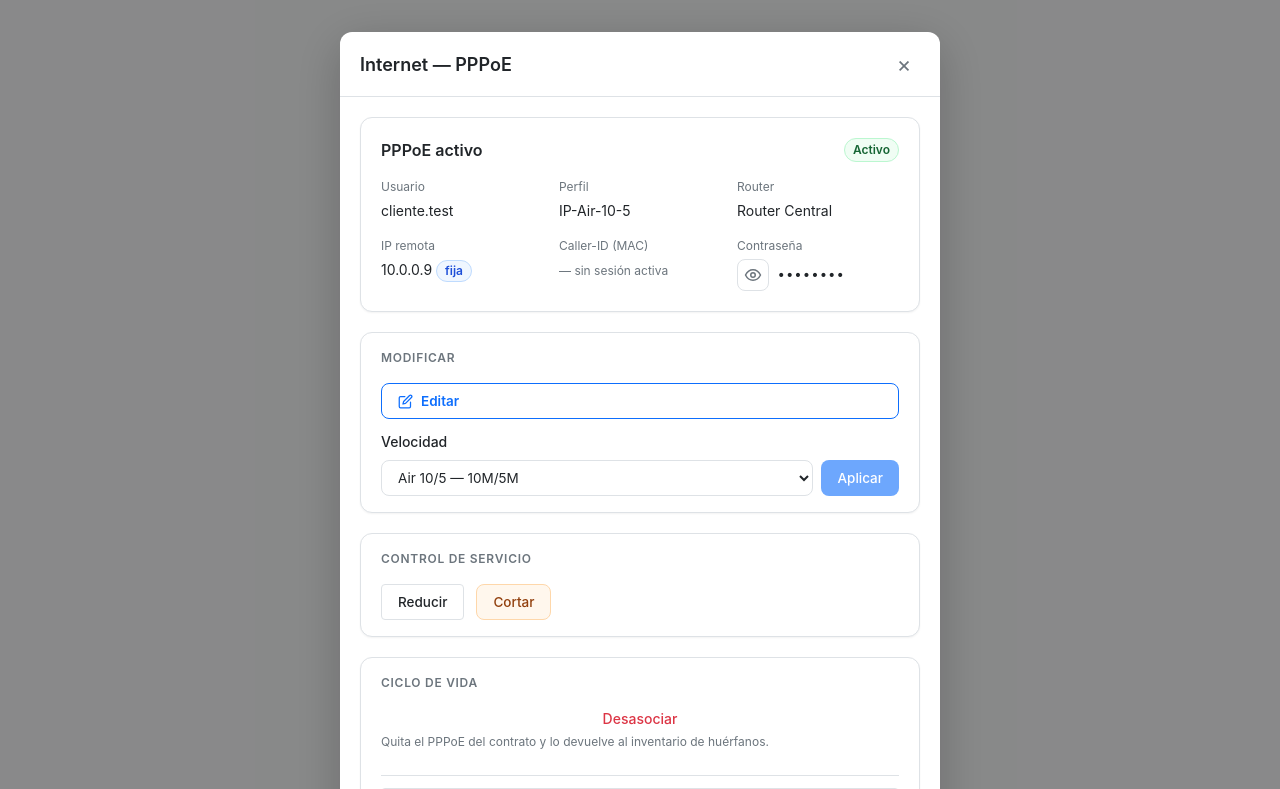
it: EP-7: Cancelar cierra el form de edición › click en Cancelar vuelve a mostrar el botón Editar
The width and height of the screenshot is (1280, 789).
Click the button "Editar" at coordinates (440, 401), box [381,383,899,419]
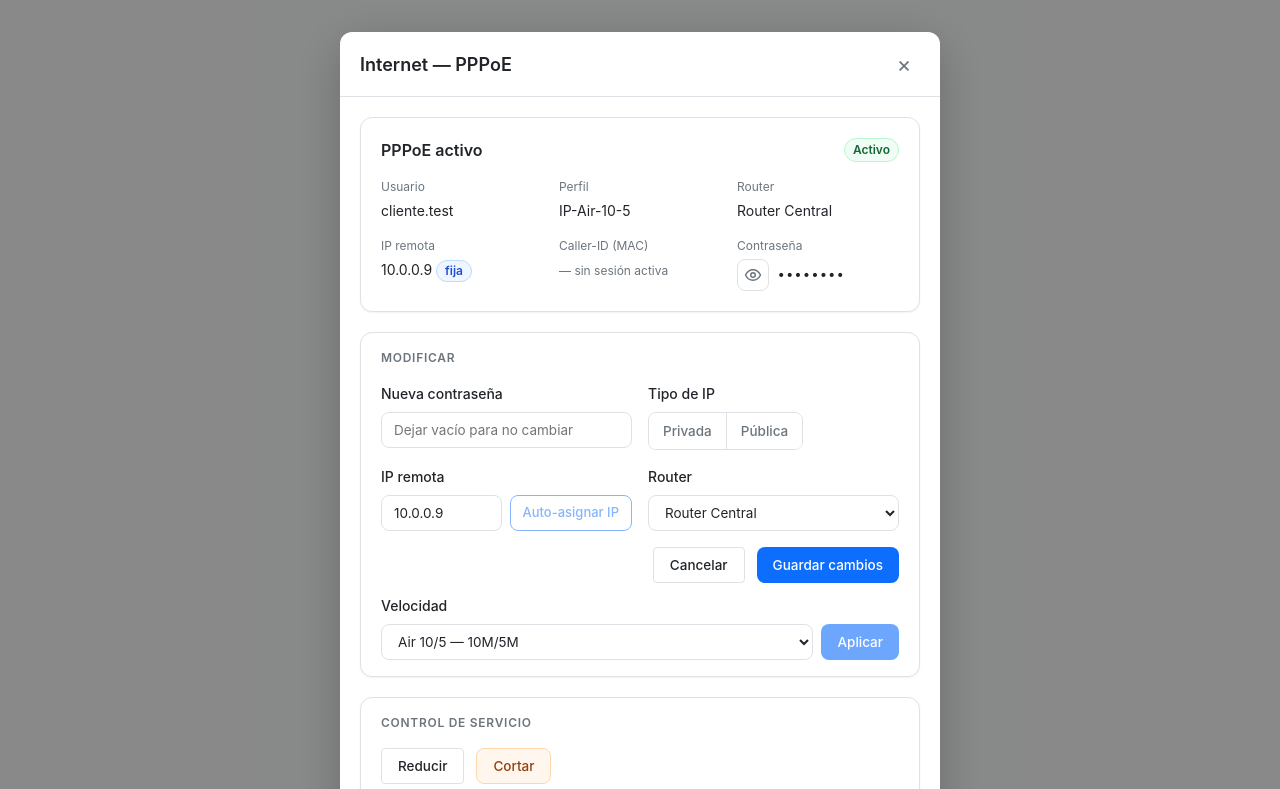
expect the password field labelled "Nueva contraseña" is shown: met, box [381,412,632,448]
Click the button "Cancelar" at coordinates (699, 565), box [653,547,745,583]
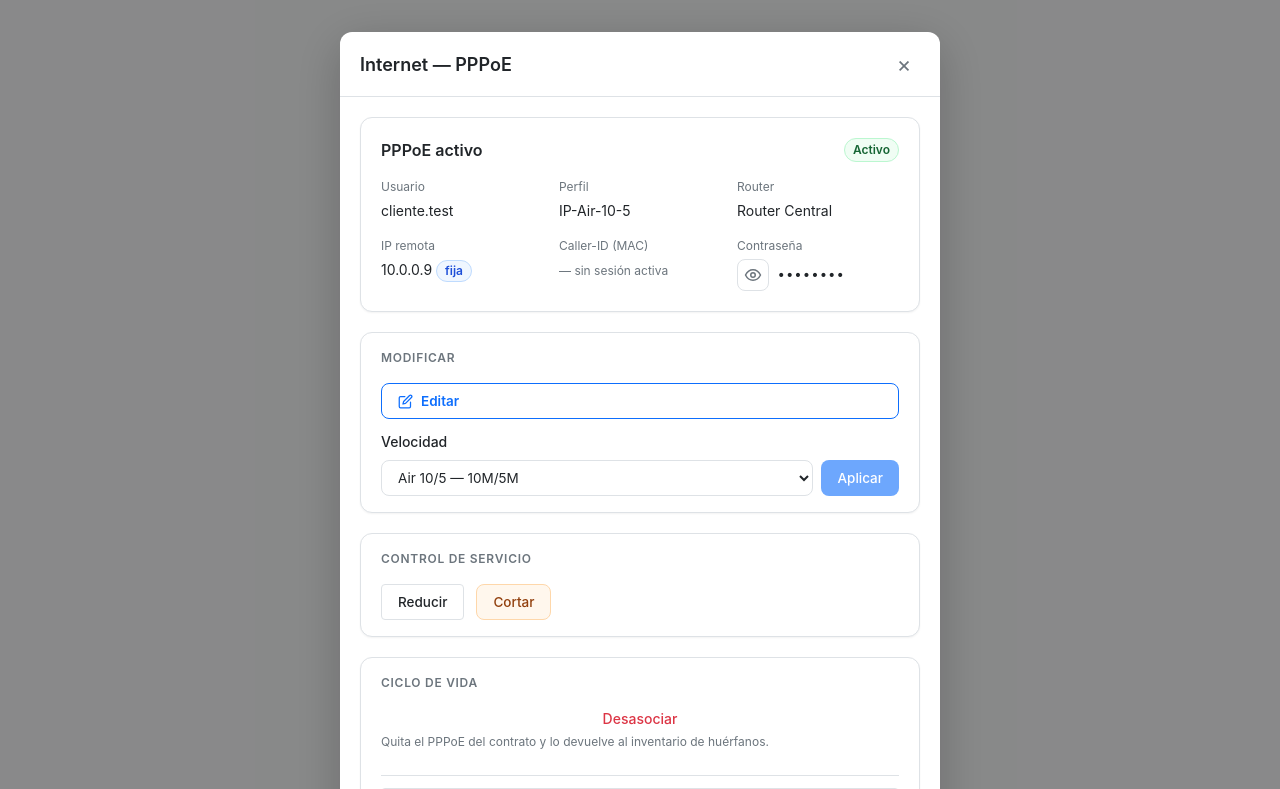
expect the label labelled "Nueva contraseña" is gone: met
expect the button "Editar" is shown: met, box [381,383,899,419]
